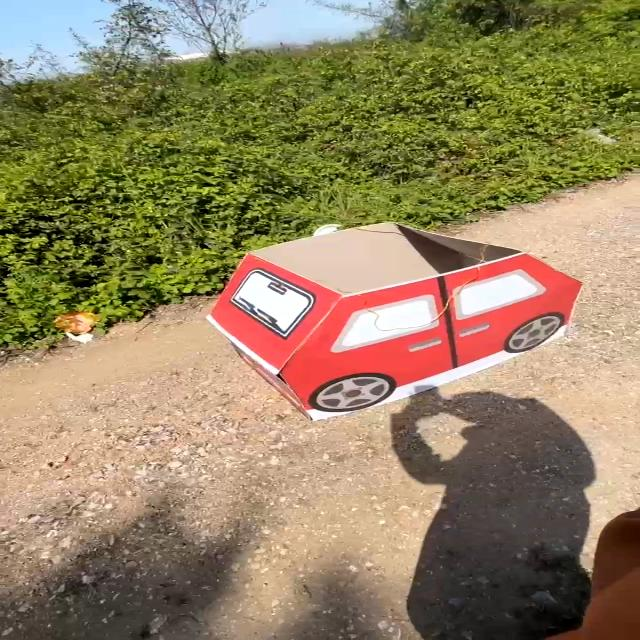red_car: (190, 214, 590, 430)
